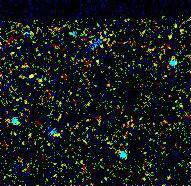star: (16, 63, 46, 93)
